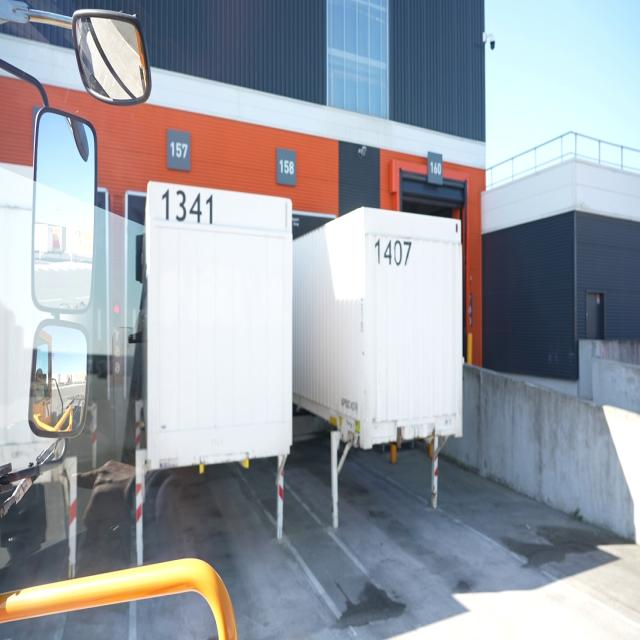Code: (160, 183, 221, 233), (369, 230, 412, 272)
